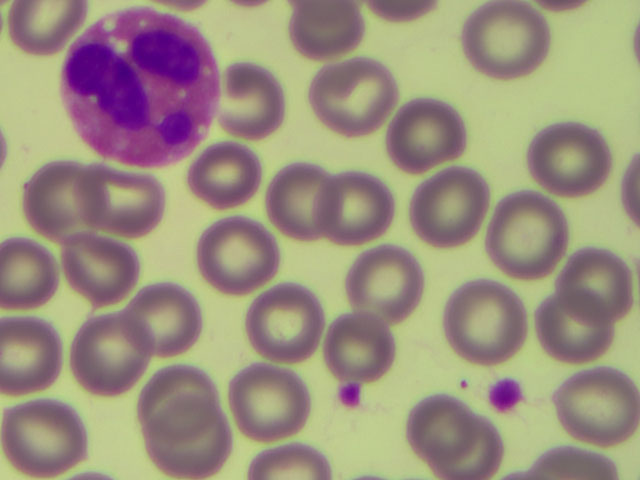Platelets: (484, 375, 525, 411), (337, 381, 369, 408)
RBC: (313, 55, 393, 133), (383, 91, 463, 169), (407, 167, 487, 245), (486, 195, 566, 273), (528, 121, 608, 199), (448, 283, 528, 361), (524, 290, 604, 368), (560, 241, 640, 319), (560, 364, 640, 442), (418, 402, 498, 480), (320, 305, 400, 383), (346, 247, 426, 325), (325, 171, 405, 249), (265, 156, 345, 234), (201, 219, 281, 297), (245, 283, 325, 361), (230, 364, 310, 442), (151, 402, 231, 480), (137, 281, 217, 359), (80, 310, 160, 388), (60, 238, 140, 316), (98, 169, 178, 247), (31, 162, 111, 240), (2, 396, 82, 474), (466, 1, 546, 78), (1, 314, 62, 391), (189, 143, 261, 208), (218, 65, 290, 130), (1, 234, 61, 309), (279, 1, 364, 53), (138, 364, 224, 414), (9, 1, 82, 57), (248, 442, 337, 480)
WBC: (61, 9, 227, 168)
